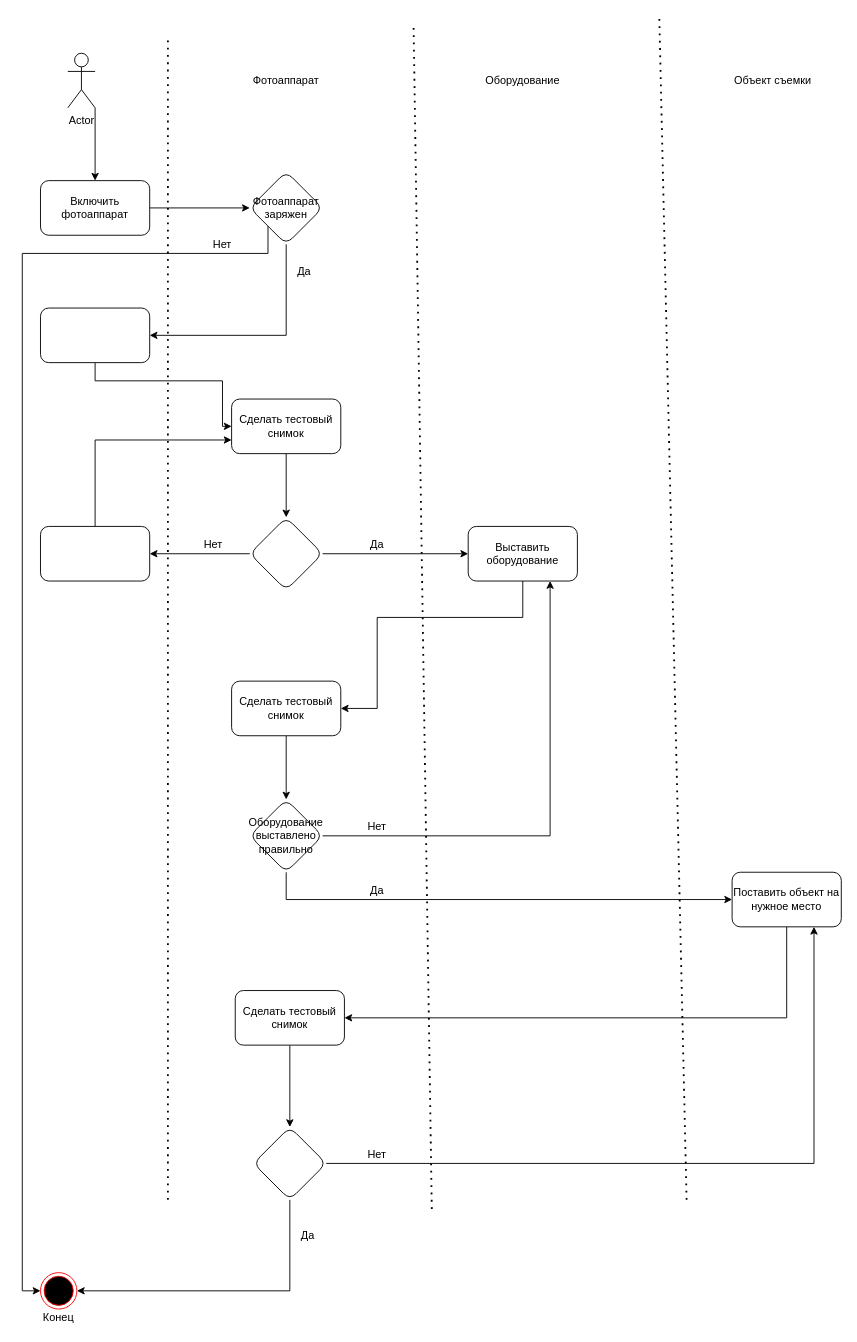
Image size: 857x1342. Some labels were removed from this diagram. Each missing label, with the centre of its shape:
Изменить настройки: the point at 95,553
Настройки съемки в порядке: the point at 286,553
Проверить настройки фотосъемки: the point at 95,335
Снимок получился: the point at 289,1163
